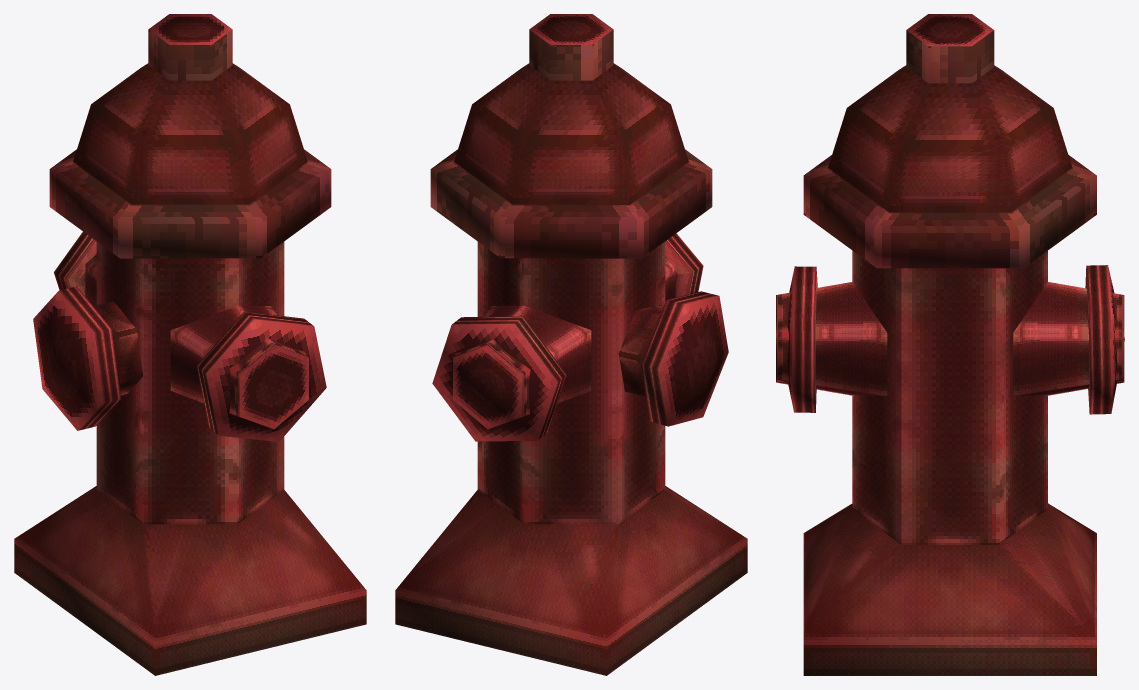
File: prop_hydrant.glb
The picture shows the model from 3 angles, left to right: view 1: azimuth 30°, elevation 25°; view 2: azimuth 150°, elevation 25°; view 3: azimuth 270°, elevation 25°; orthographic projection. The views are drawn at different scales.
Visible parts, largest first — view 1: Hydrant2; view 2: Hydrant2; view 3: Hydrant2.
Part boxes in pixels (x1=…): Hydrant2: x1=14, y1=14, x2=366, y2=675; Hydrant2: x1=395, y1=14, x2=747, y2=675; Hydrant2: x1=776, y1=14, x2=1124, y2=675.
Size of the model in its own units: 0.4438 by 1 by 0.5352.
Materials: 1 (1 with a texture image).
